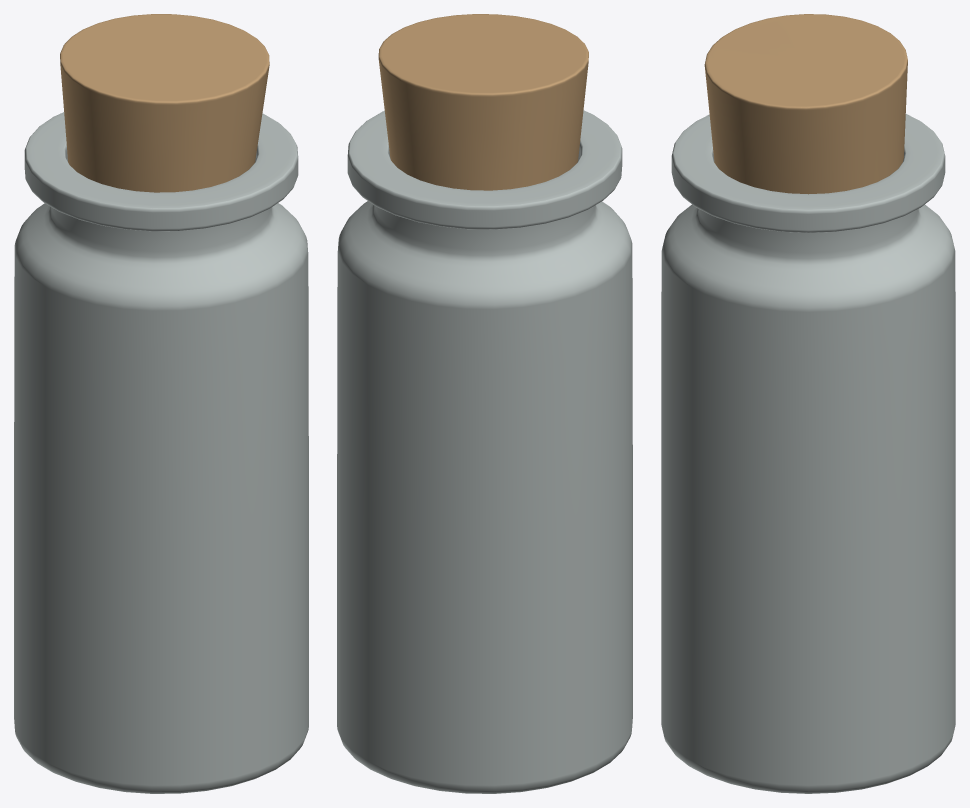
File: container_vial_glass_a01.glb
3 renders of one model, left to right at view 1: azimuth 30°, elevation 25°; view 2: azimuth 150°, elevation 25°; view 3: azimuth 270°, elevation 25°, orthographic.
Bounding box in the file's own units: 0.0326 × 0.0829 × 0.0326.
